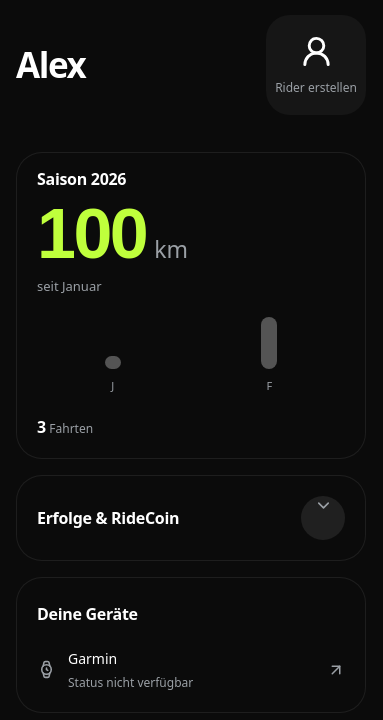
Test case: W3 profile review › lets a rider inspect a month and return to the season total
The width and height of the screenshot is (383, 720).
Click the button named "Januar: 20 Kilometer" at [113, 356], box [37,317,188,394]
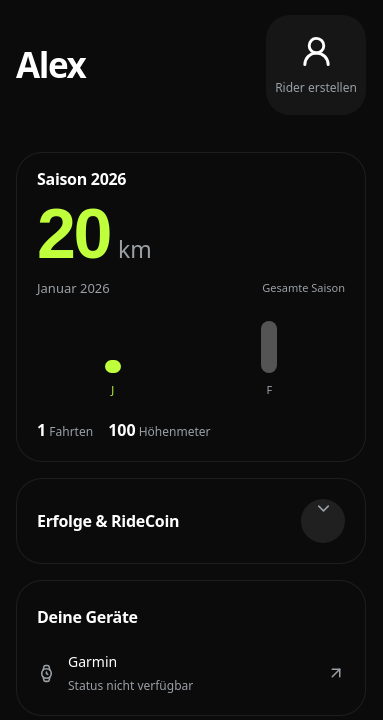
Expected: the text "20" is shown, [37,199,110,269]
Click the button "Gesamte Saison" at [304, 288], box [262,274,345,302]
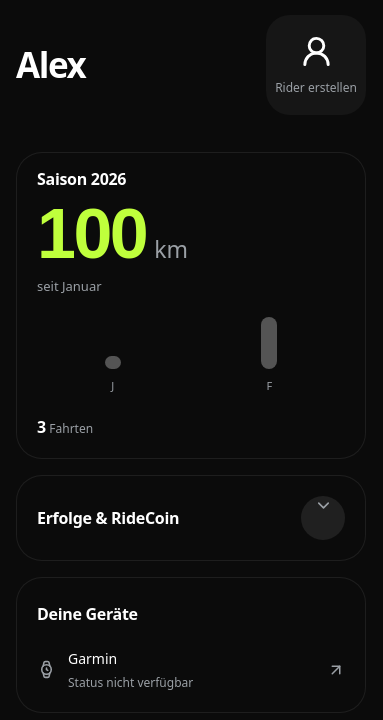
Expected: the text "100" is shown, [37,199,146,269]
